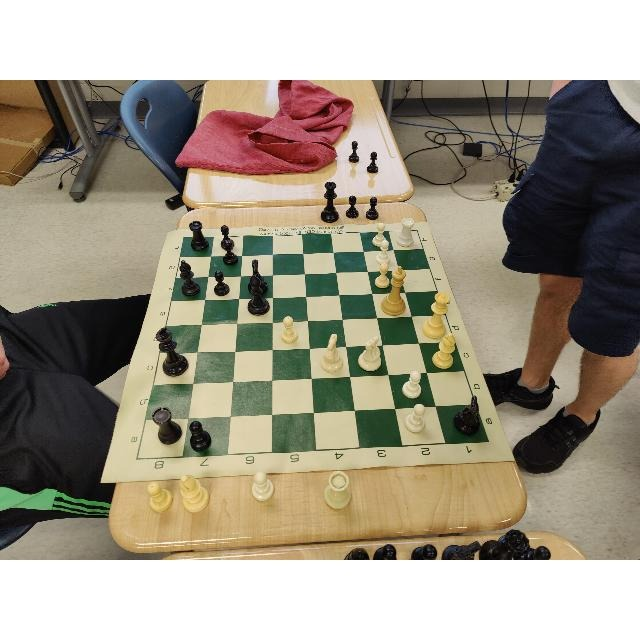black-bishop: (247, 276, 270, 316), (179, 260, 201, 296)
black-king: (155, 327, 188, 376)
black-knight: (455, 396, 481, 436), (248, 259, 268, 294)
black-pawn: (189, 421, 211, 453), (214, 269, 230, 296), (222, 240, 237, 266), (221, 225, 235, 249)
black-rook: (152, 406, 183, 445), (190, 221, 210, 251)
white-bishop: (433, 333, 455, 369)
white-king: (382, 266, 406, 315)
white-knight: (321, 334, 344, 374), (358, 336, 382, 372)
white-pawn: (406, 404, 426, 433), (402, 371, 422, 399), (281, 315, 298, 344), (372, 222, 387, 248), (377, 240, 391, 264)
white-queen: (421, 291, 450, 338)
white-rook: (398, 218, 414, 247)
